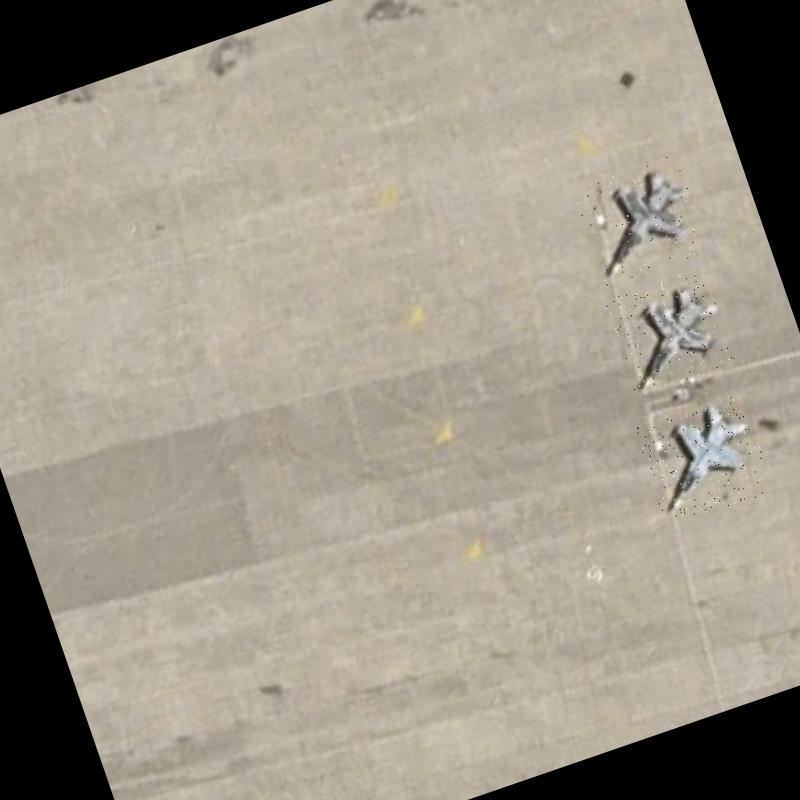A16: (633, 391, 775, 528), (568, 154, 710, 288), (603, 267, 736, 397)
